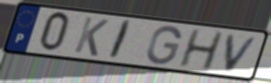0: (37, 10, 73, 56)
G: (144, 24, 184, 66)
H: (176, 28, 226, 72)
I: (106, 19, 134, 62)
K: (72, 15, 111, 58)
V: (223, 33, 261, 74)
